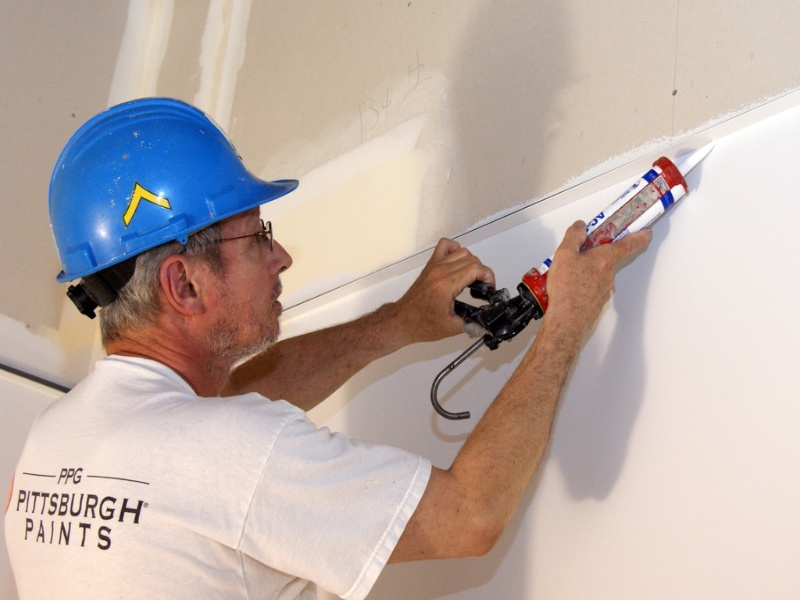baret: (47, 97, 299, 292)
